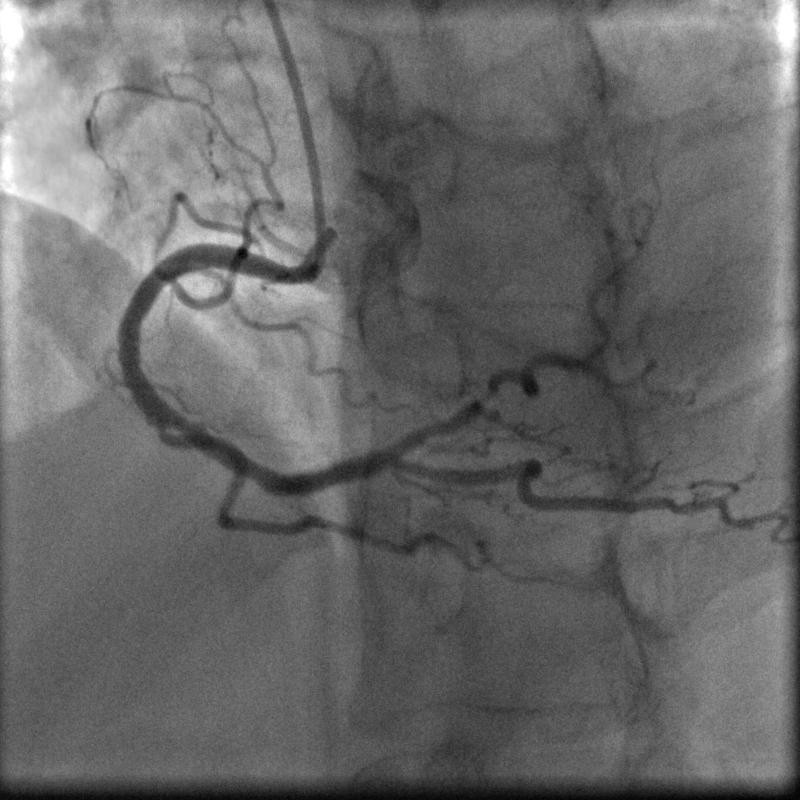Stenosis: (464, 375, 497, 410)
